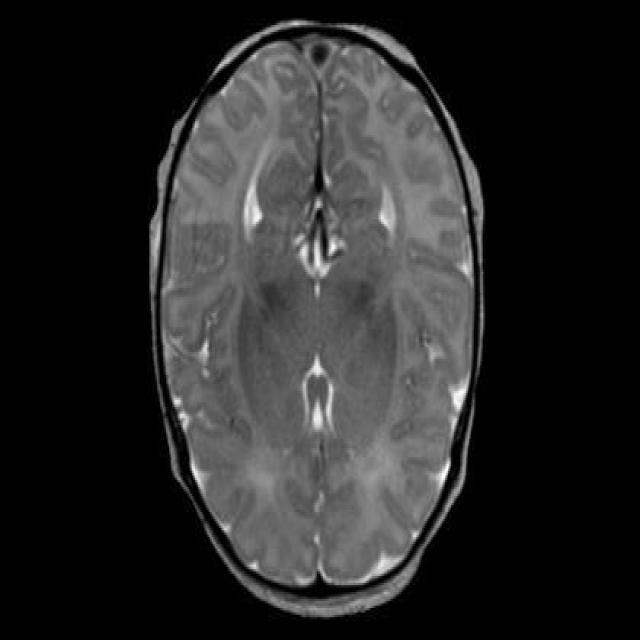notumor: (152, 21, 483, 615)
